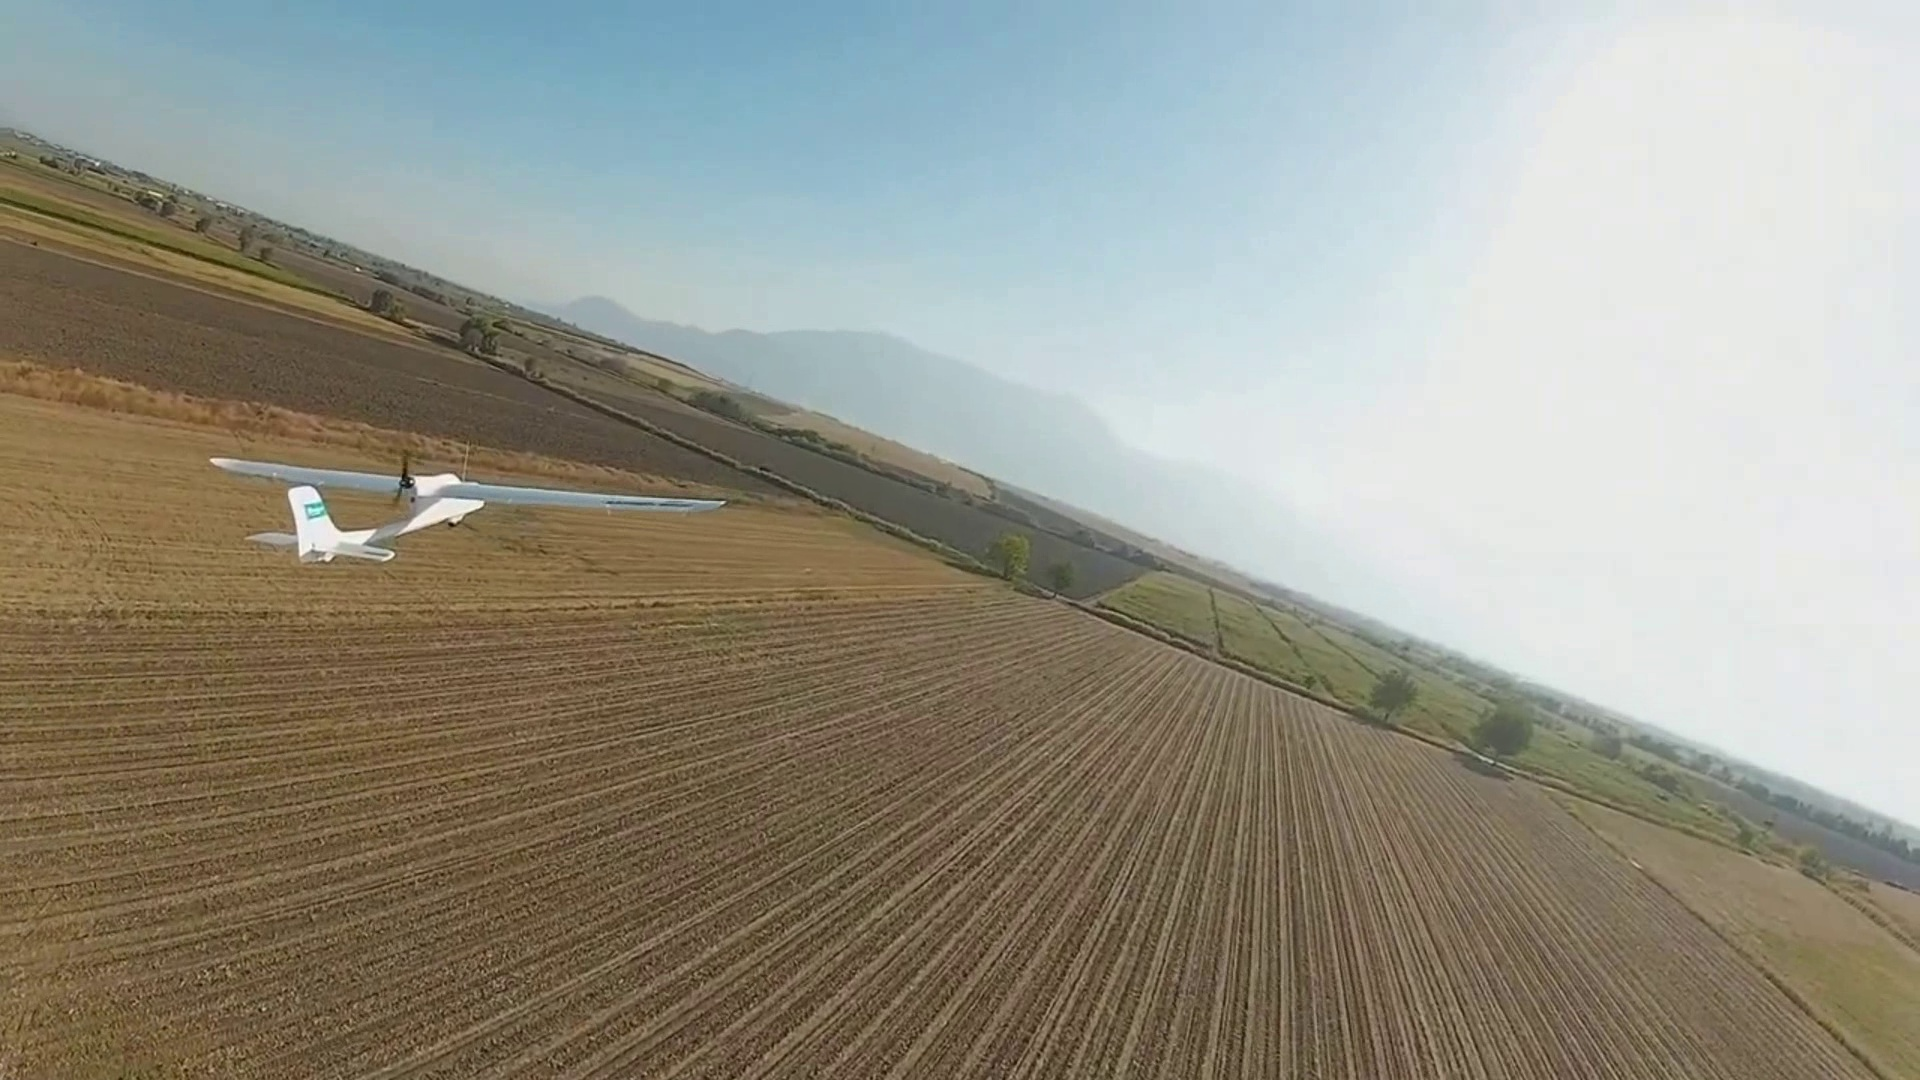airplane: (207, 452, 722, 564), (206, 456, 486, 563)
